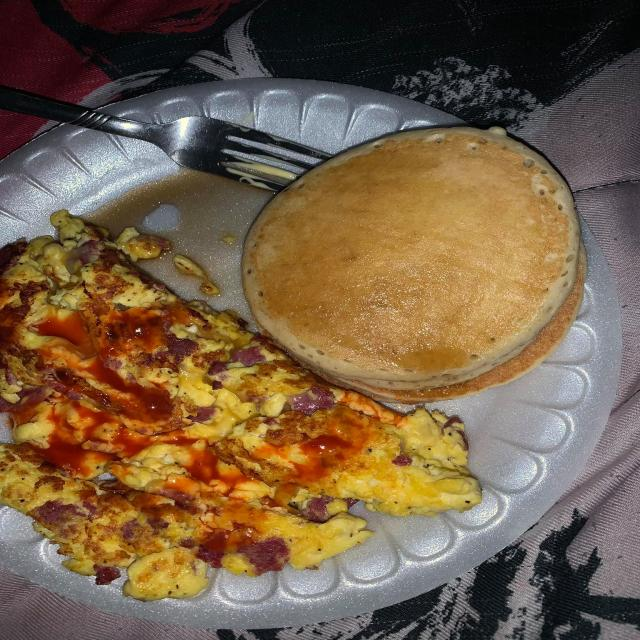Omelette: (9, 223, 246, 600)
Pancakes: (250, 120, 594, 396)
